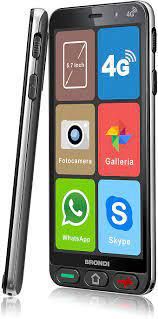Smartphone: (51, 11, 158, 301), (1, 6, 48, 300)
